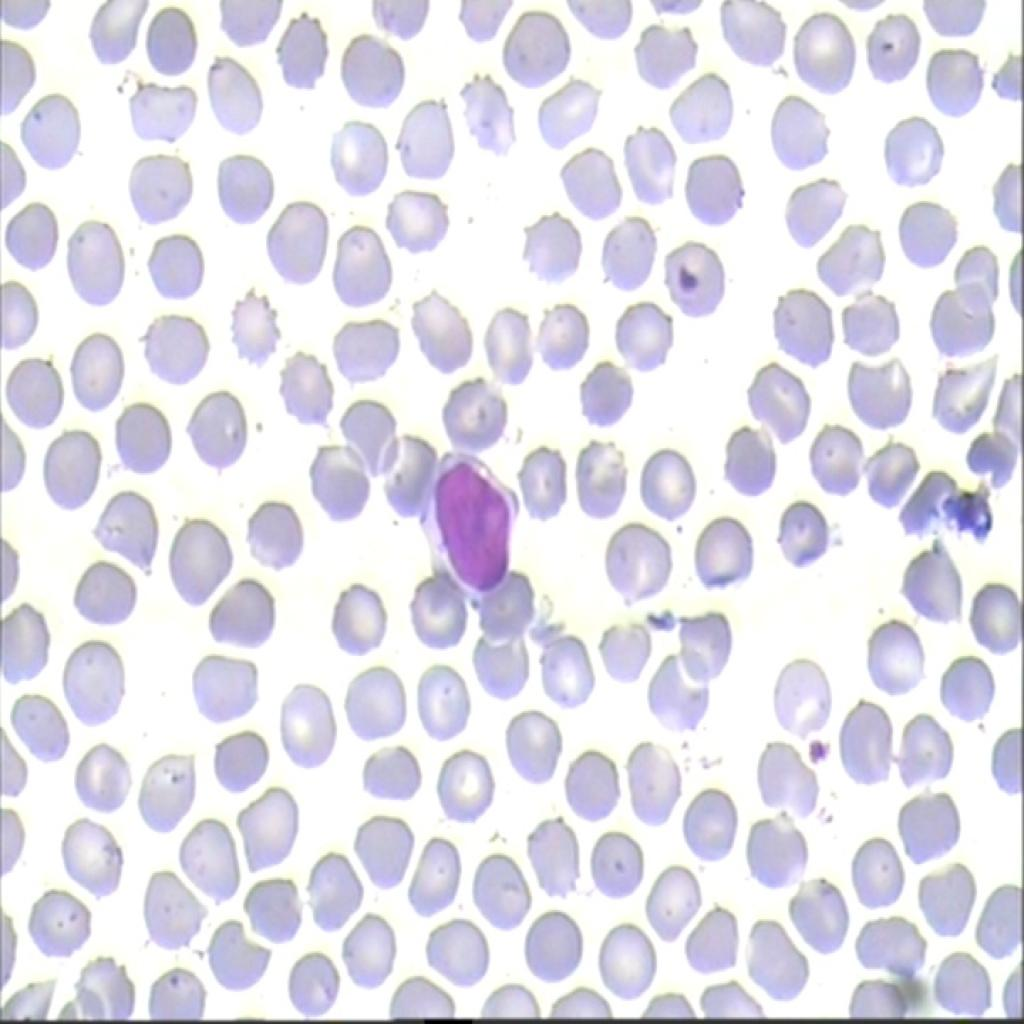Limfosit: (414, 432, 526, 594)
Platelet: (801, 722, 842, 788), (674, 258, 706, 308)
